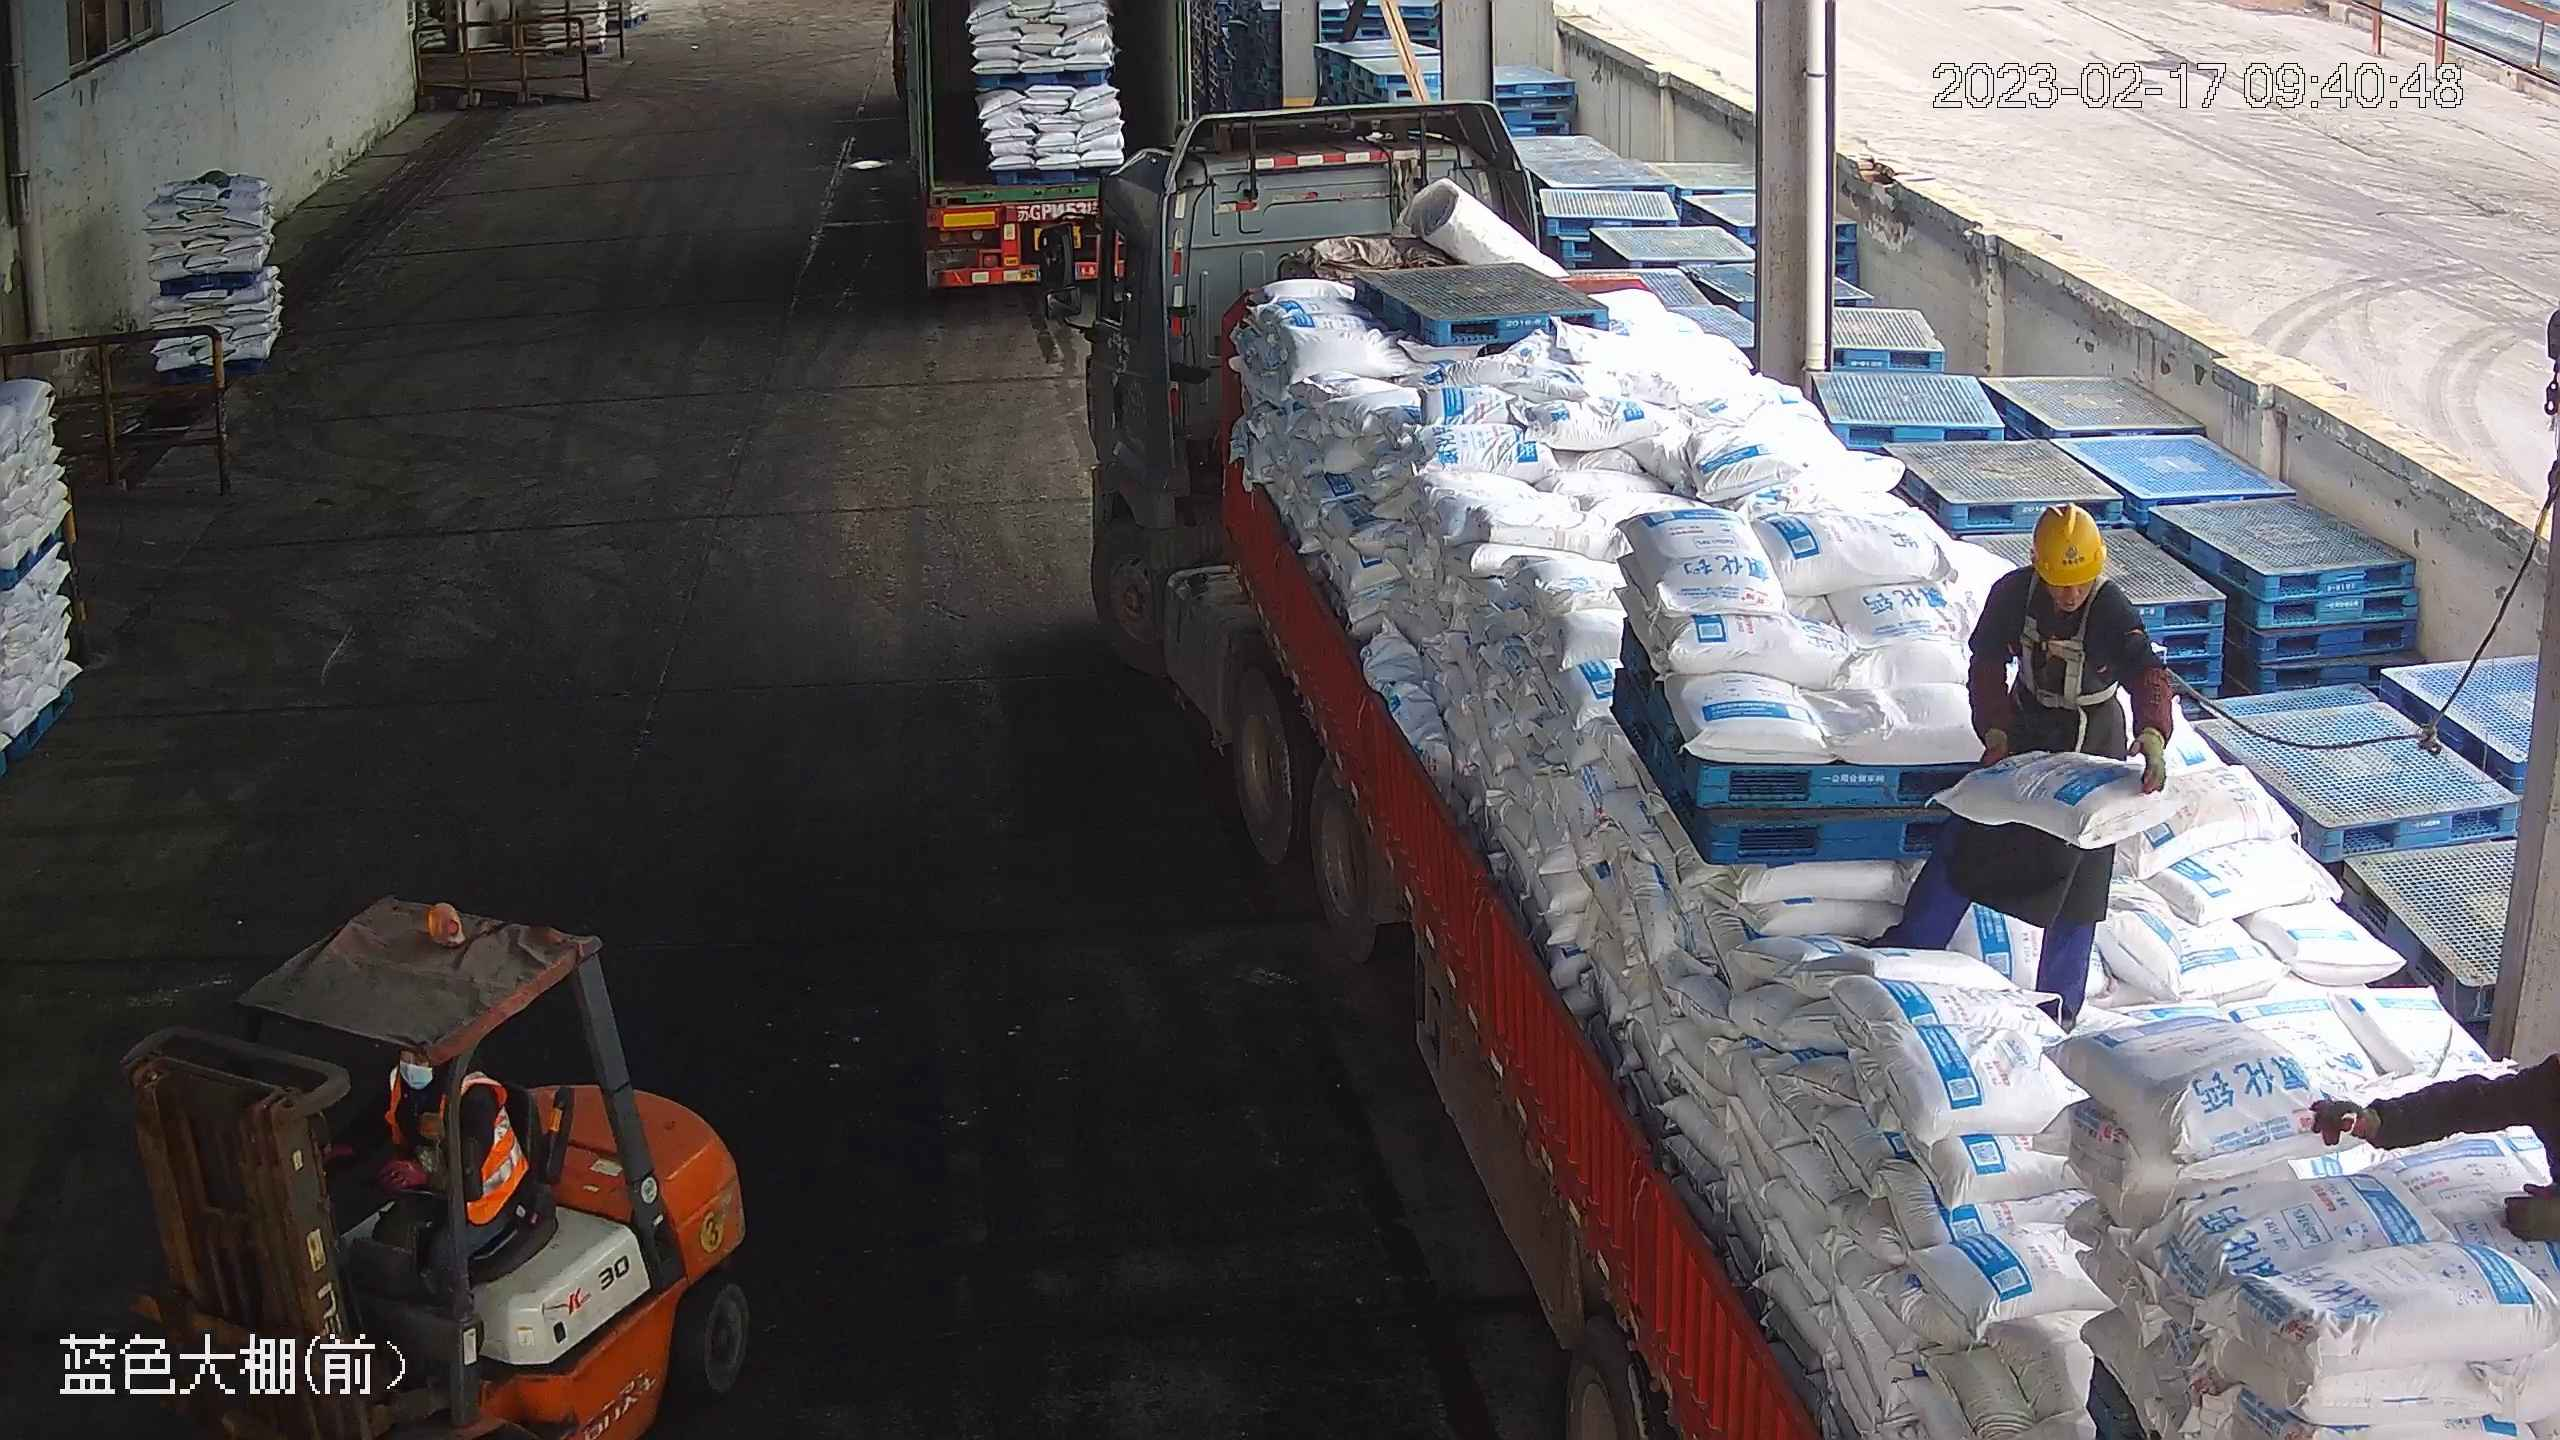belt: (2016, 574, 2121, 708)
head: (1986, 496, 2134, 656)
helmet: (2028, 497, 2110, 592)
people: (1879, 488, 2177, 1031)
truck: (1037, 100, 2554, 1438), (891, 1, 1182, 294)
